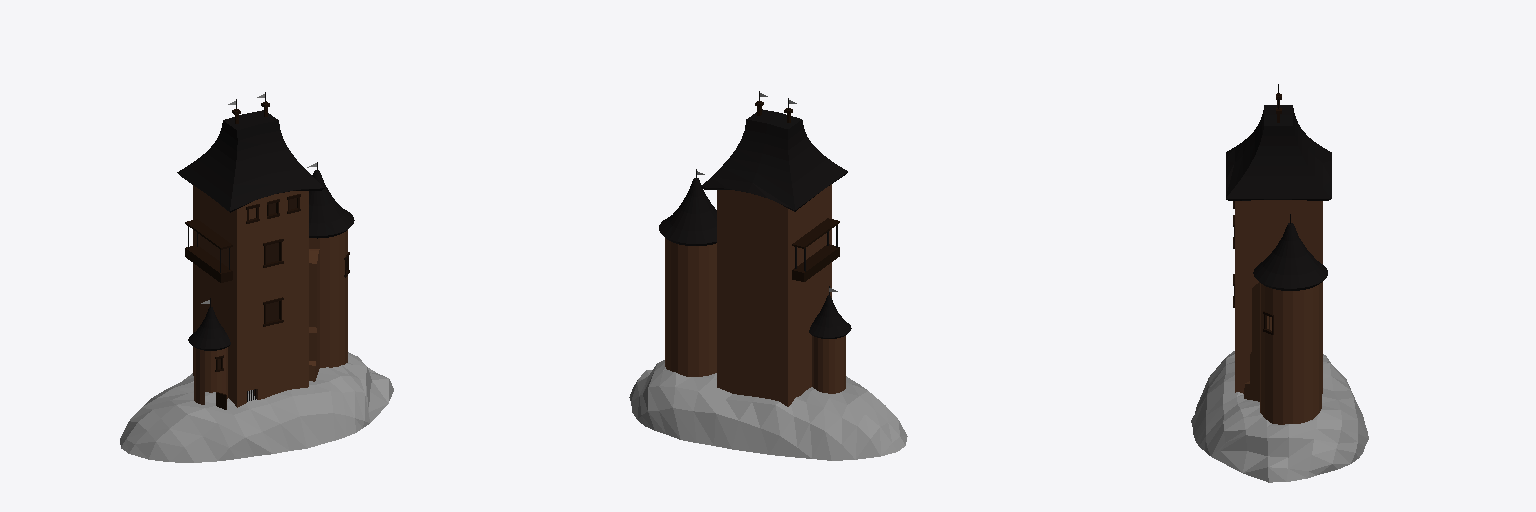
The model's file is castle.obj.
The picture shows the model from 3 angles: view 1: azimuth 30°, elevation 25°; view 2: azimuth 150°, elevation 25°; view 3: azimuth 270°, elevation 25°; orthographic projection.
Parts seen in each view (by area): view 1: castle; view 2: castle; view 3: castle.
Part boxes in pixels (x1,y1,x2,y2): castle: (120,92,393,462); castle: (629,91,907,460); castle: (1191,84,1368,482).
Bounding box in the file's own units: 223 × 260 × 129.